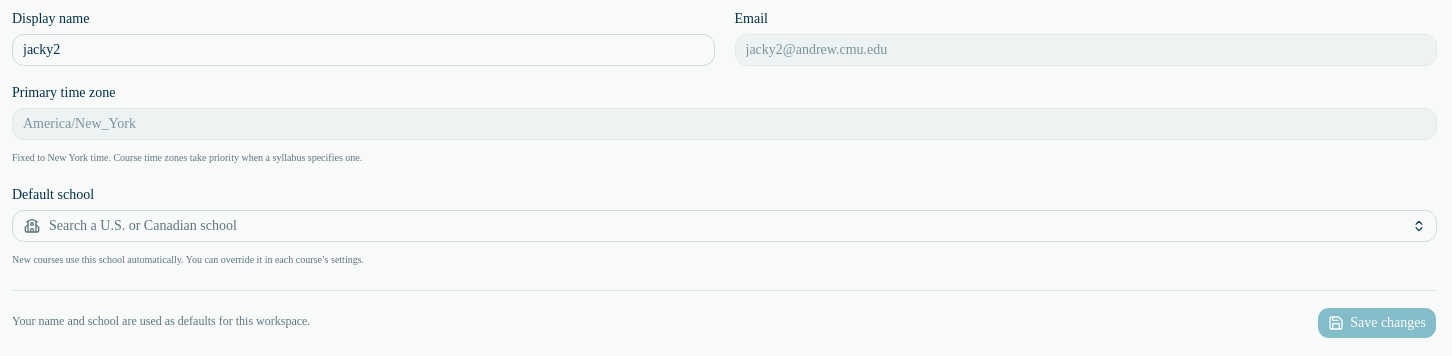
ProfileSettingsForm › saves the display name and refreshes the workspace
Expected: the button "Save changes" is disabled, [1317,307,1437,339]
Replace the text in the field labelled "Display name" with "Jacky Zheng" at {"x": 363, "y": 50}, box [12,34,714,66]
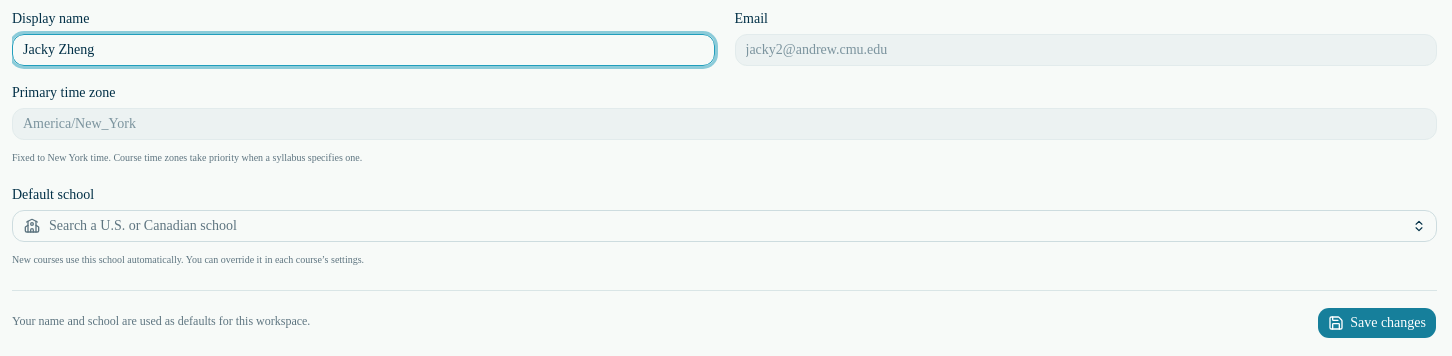
Now the button "Save changes" is enabled
Click the button "Save changes" at {"x": 1377, "y": 323}, box [1317,307,1437,339]
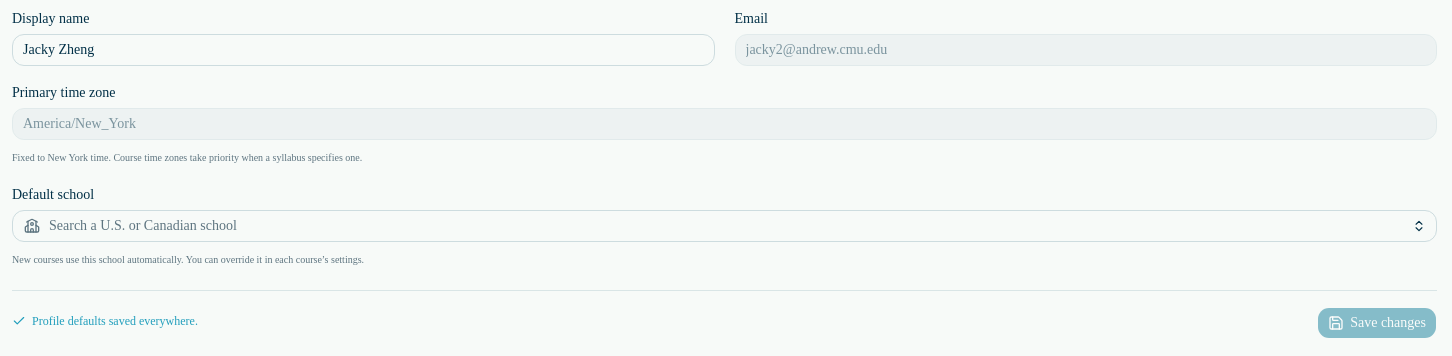
Now the message reads "Profile defaults saved everywhere.", box [32,314,198,328]
Now the button "Save changes" is disabled, box [1317,307,1437,339]
